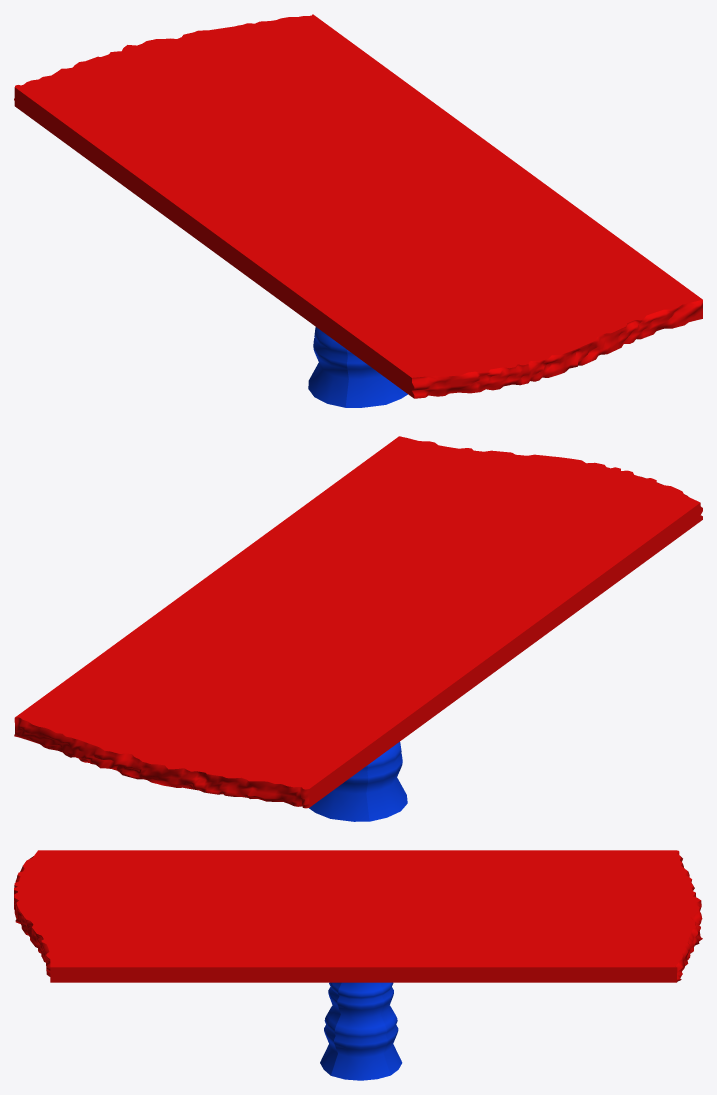
Rendered from ass_tab_v00_UV.fbx.
The picture shows the model from 3 angles, top to bottom: view 1: azimuth 30°, elevation 25°; view 2: azimuth 150°, elevation 25°; view 3: azimuth 270°, elevation 25°; orthographic projection. The views are drawn at different scales.
Parts seen in each view (by area): view 1: table; view 2: table; view 3: table.
Boxes of the visible parts, x1,y1,x2,y2 form: table: (14,14,702,407); table: (14,436,702,821); table: (14,850,702,1080).
Bounding box in the file's own units: 11.99 × 7.35 × 29.81.
